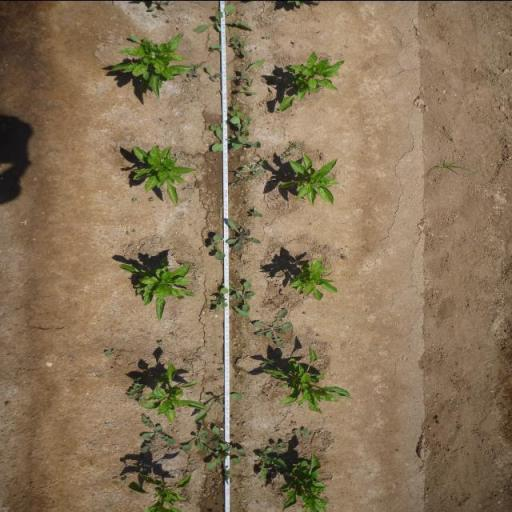plant: (260, 344, 354, 413), (106, 32, 189, 101), (117, 256, 197, 320), (129, 140, 199, 205), (278, 47, 344, 111), (274, 448, 337, 512), (277, 150, 343, 206), (144, 358, 196, 420), (127, 469, 195, 512), (286, 255, 340, 301)
weed: (191, 3, 254, 33), (252, 306, 294, 348), (194, 391, 243, 423), (426, 157, 484, 180), (140, 414, 174, 453), (222, 280, 256, 316), (210, 424, 248, 456), (202, 444, 234, 482), (228, 115, 262, 149), (226, 218, 261, 250), (226, 58, 267, 82), (256, 454, 287, 482), (208, 129, 242, 152), (181, 428, 211, 450), (204, 233, 227, 260), (210, 32, 240, 51), (277, 138, 301, 160), (211, 286, 228, 314), (242, 159, 269, 175), (264, 440, 288, 456), (126, 383, 145, 403), (230, 171, 253, 187), (238, 78, 257, 94), (205, 65, 222, 82), (146, 0, 172, 11), (188, 60, 204, 77), (236, 40, 250, 58), (292, 426, 311, 439), (228, 103, 244, 116), (128, 373, 143, 383), (208, 121, 222, 131), (102, 348, 116, 357), (260, 358, 275, 366), (250, 209, 263, 218), (262, 34, 272, 40), (174, 151, 182, 158), (157, 338, 164, 345), (150, 11, 158, 17), (121, 476, 127, 484), (218, 366, 224, 372), (125, 230, 132, 235), (290, 39, 298, 43), (148, 196, 154, 201), (132, 197, 138, 202), (158, 117, 164, 121), (192, 262, 198, 266), (166, 18, 171, 22), (132, 228, 136, 232)
